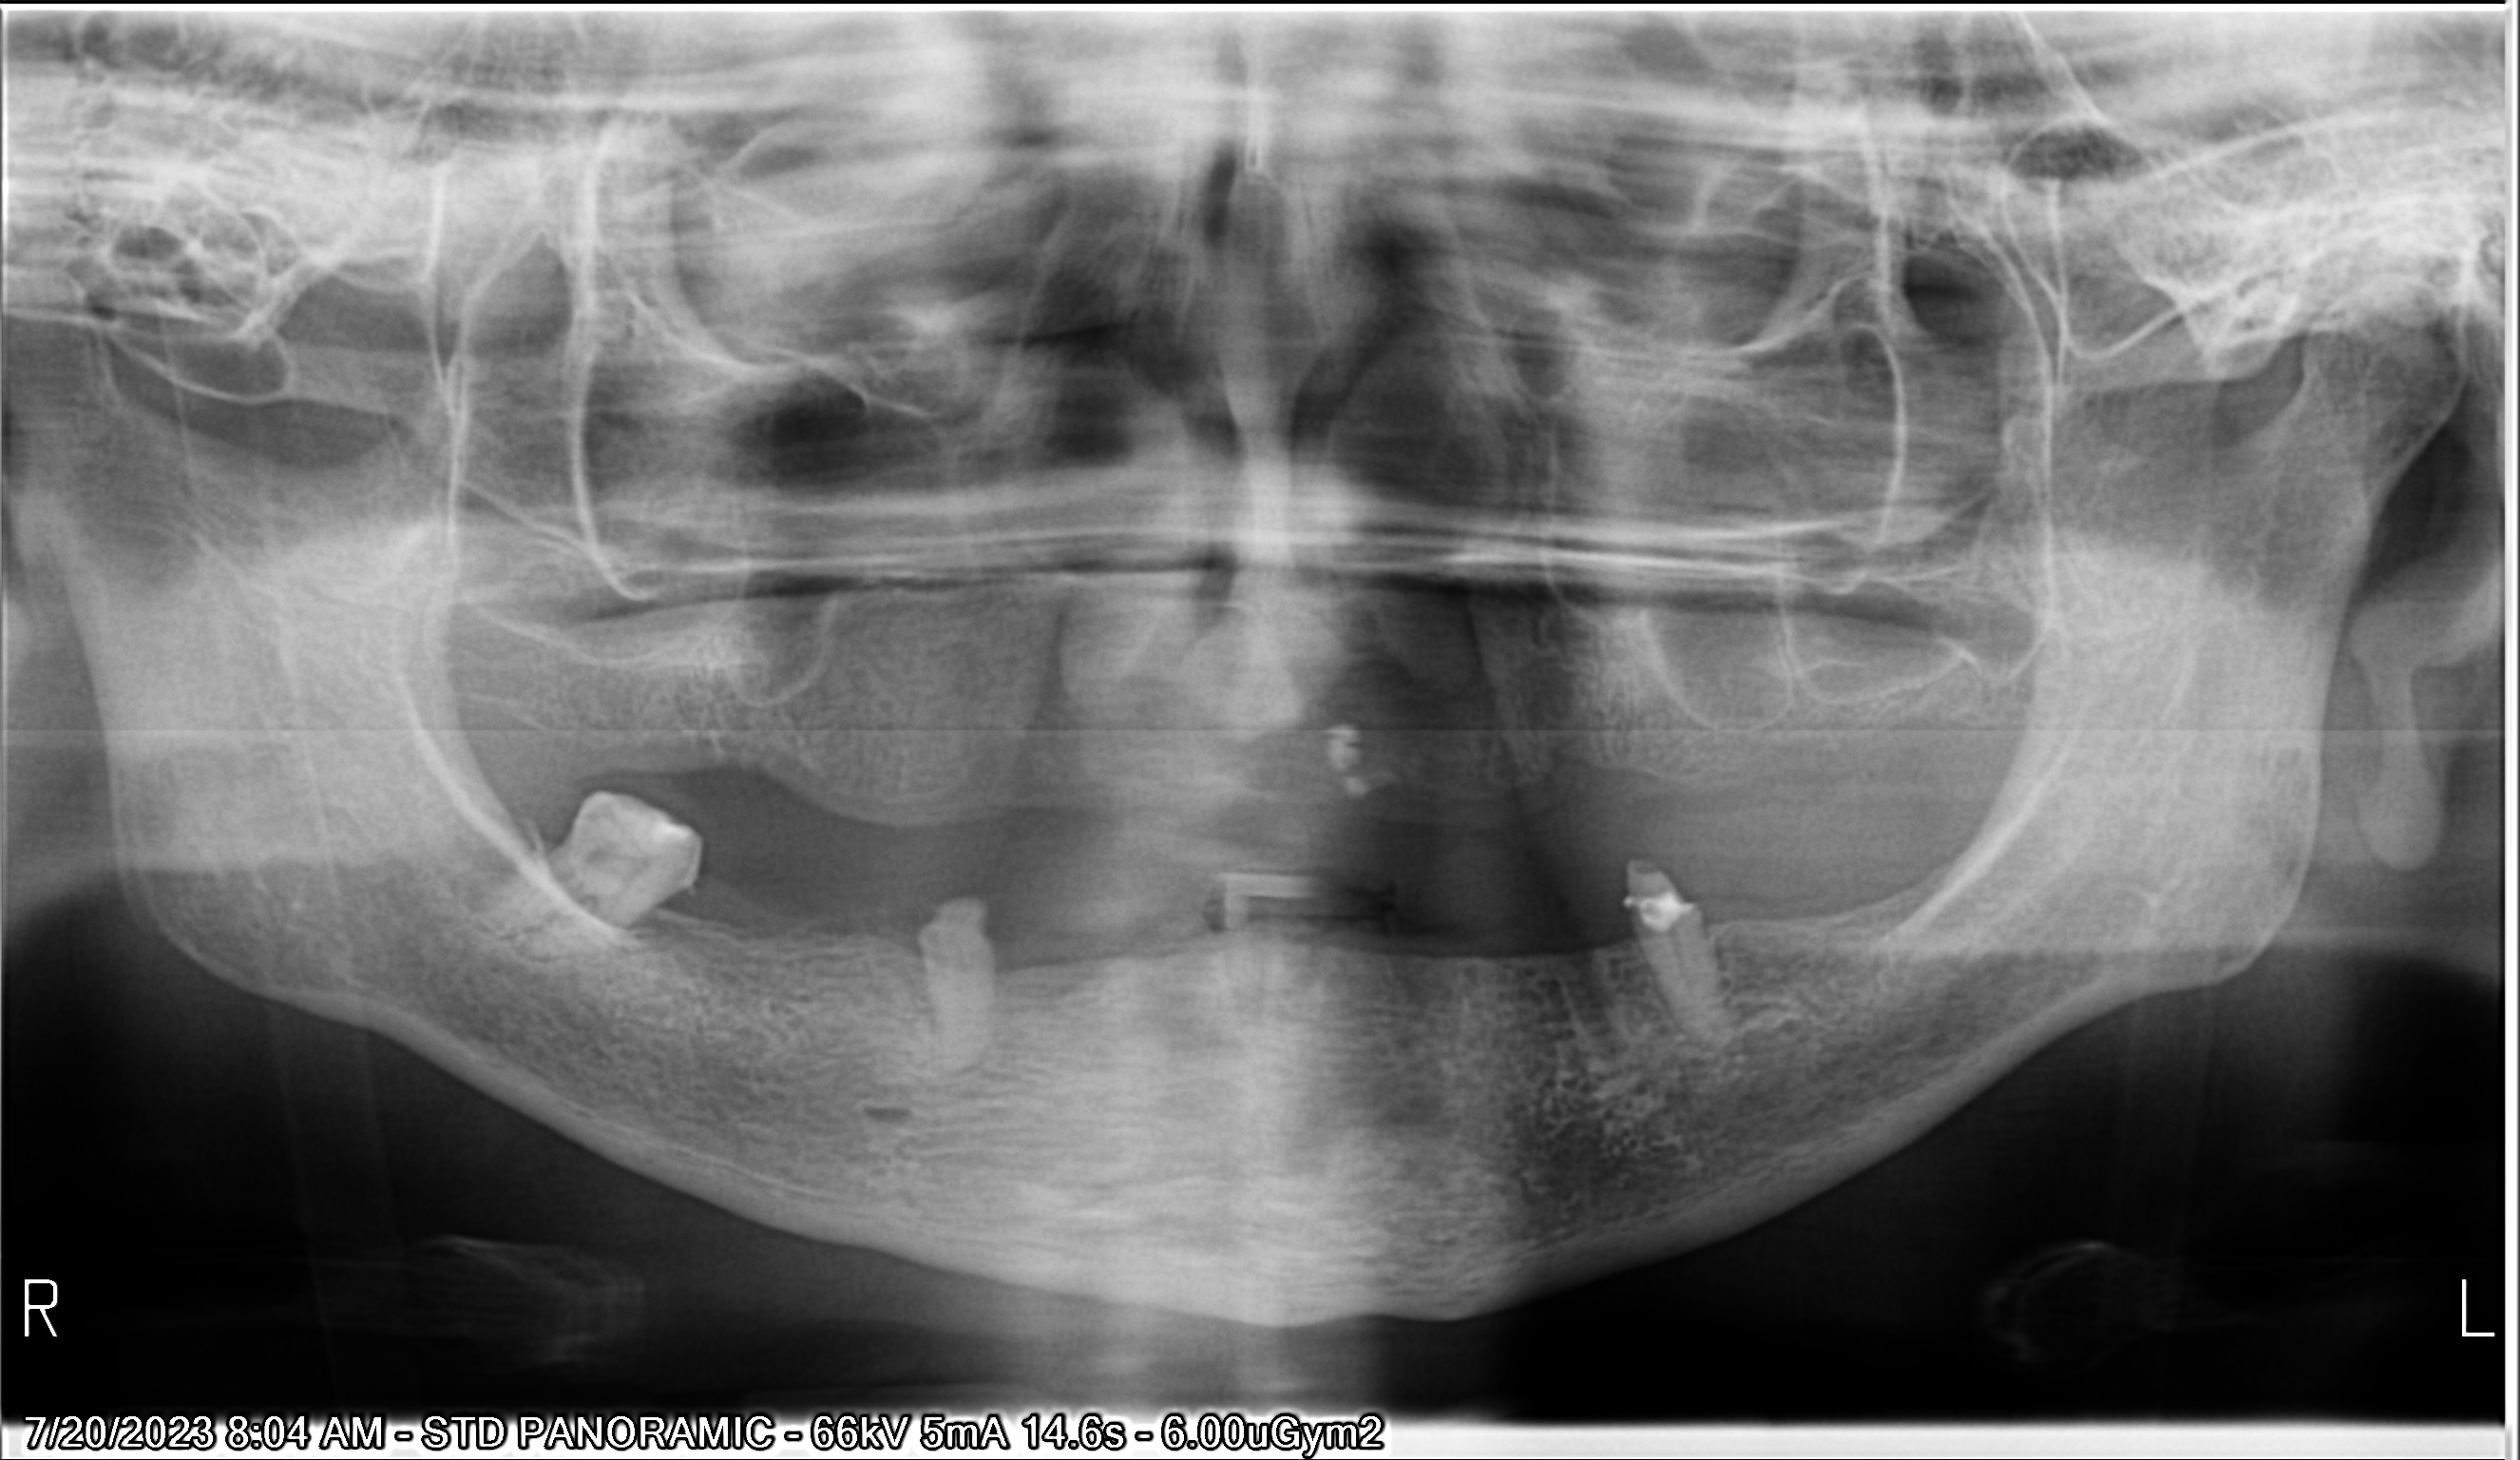ROT: (1626, 869, 1744, 1058), (907, 897, 1016, 1076)
